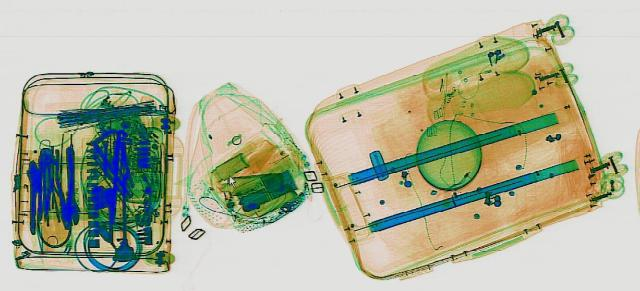Wrench: (60, 146, 78, 229)
